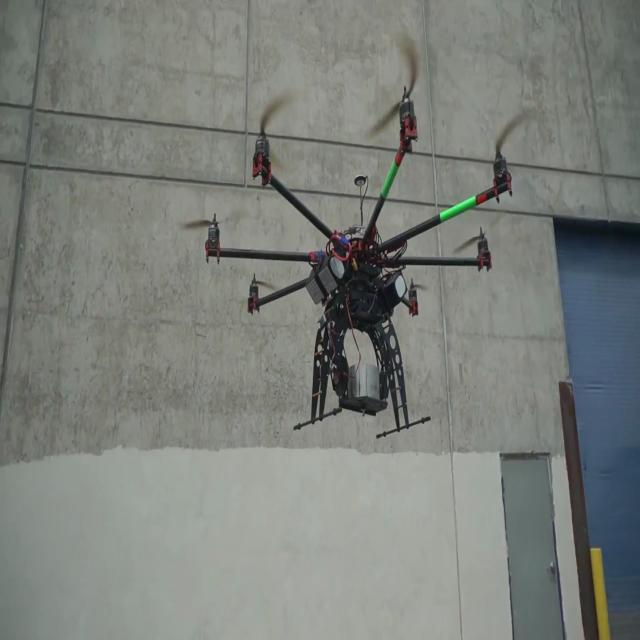drone: (182, 47, 518, 438)
